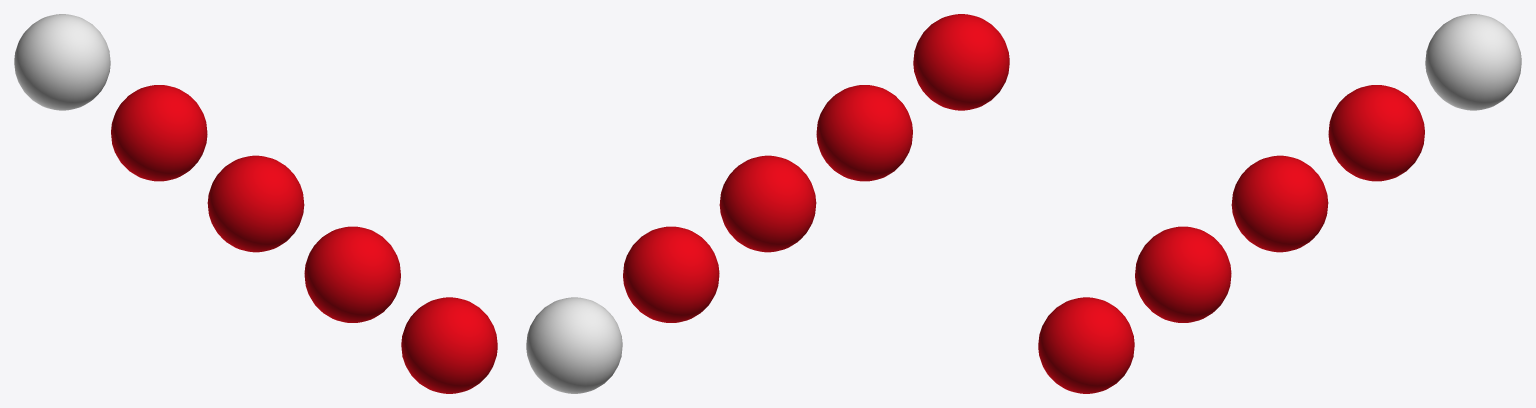
3 renders of one model, left to right at view 1: azimuth 30°, elevation 25°; view 2: azimuth 150°, elevation 25°; view 3: azimuth 330°, elevation 25°, orthographic.
Visible parts, largest first — view 1: Sphere.003, Sphere.004, Sphere.001, Sphere, Sphere.002; view 2: Sphere.003, Sphere.004, Sphere.001, Sphere, Sphere.002; view 3: Sphere.003, Sphere.004, Sphere.001, Sphere, Sphere.002.
Part boxes in pixels (left/top/right/bottom): Sphere.003: left=401, top=297, right=497, bottom=393; Sphere.004: left=14, top=14, right=110, bottom=110; Sphere.001: left=207, top=155, right=304, bottom=252; Sphere: left=111, top=85, right=207, bottom=181; Sphere.002: left=304, top=226, right=400, bottom=322; Sphere.003: left=913, top=14, right=1009, bottom=110; Sphere.004: left=526, top=297, right=622, bottom=393; Sphere.001: left=719, top=155, right=816, bottom=252; Sphere: left=623, top=226, right=719, bottom=322; Sphere.002: left=816, top=85, right=912, bottom=181; Sphere.003: left=1038, top=297, right=1134, bottom=393; Sphere.004: left=1425, top=14, right=1521, bottom=110; Sphere.001: left=1231, top=155, right=1328, bottom=252; Sphere: left=1328, top=85, right=1424, bottom=181; Sphere.002: left=1135, top=226, right=1231, bottom=322.
Size of the model in its own units: 2 by 2 by 18.
